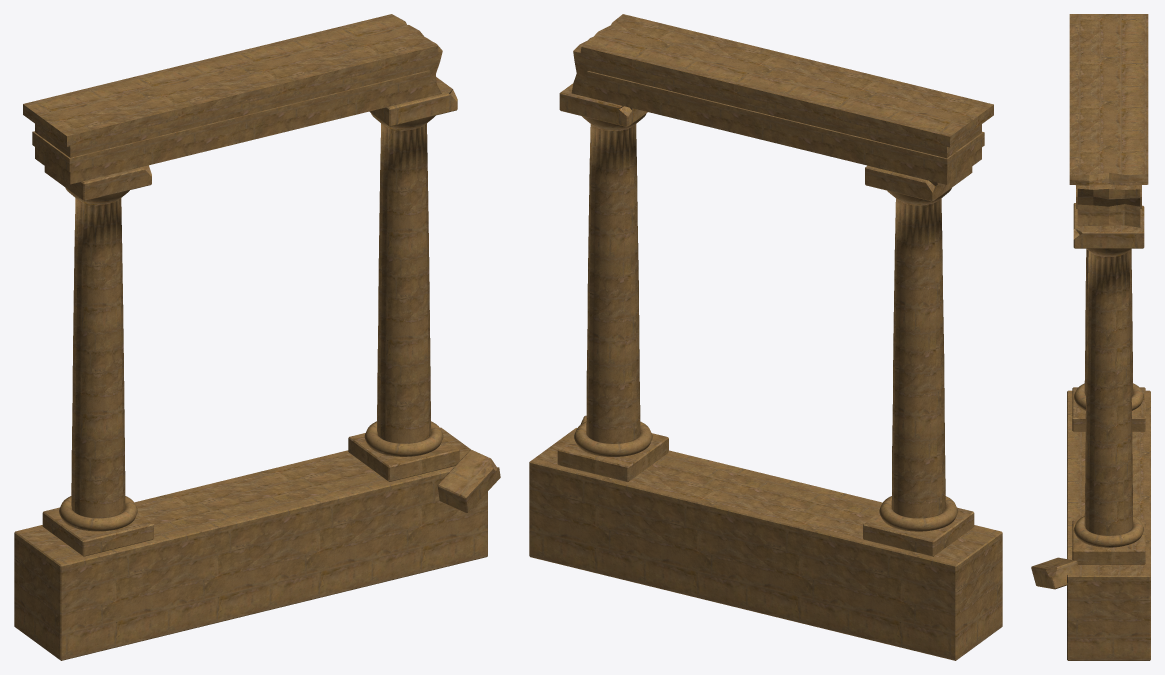
File: colonnade_bay.glb
3 views of the same model, side by side, from view 1: azimuth 30°, elevation 25°; view 2: azimuth 150°, elevation 25°; view 3: azimuth 270°, elevation 25° (orthographic). The views are drawn at different scales.
Parts seen in each view (by area): view 1: colonnade_bay; view 2: colonnade_bay; view 3: colonnade_bay.
Boxes of the visible parts, left/top/right/bottom form: colonnade_bay: left=14, top=14, right=500, bottom=660; colonnade_bay: left=529, top=14, right=1002, bottom=660; colonnade_bay: left=1031, top=14, right=1150, bottom=660.
Bounding box in the file's own units: 8.5 × 9.8 × 2.29.
1 material, 1 textured.
